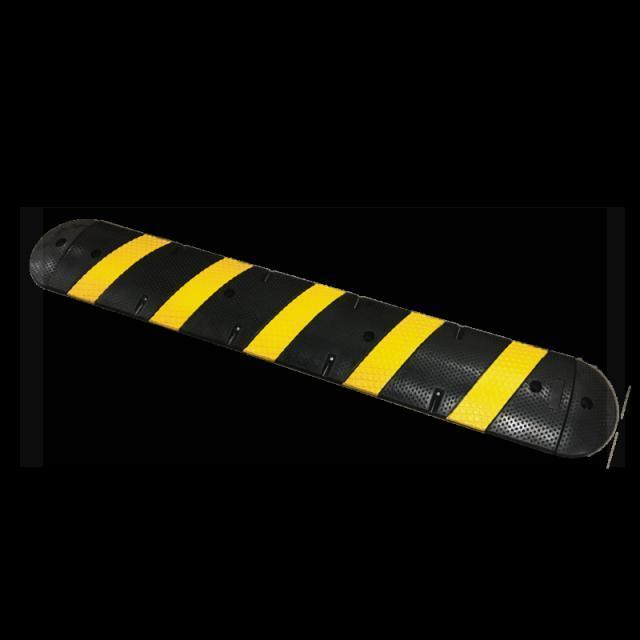speedbreaker: (43, 208, 607, 478)
